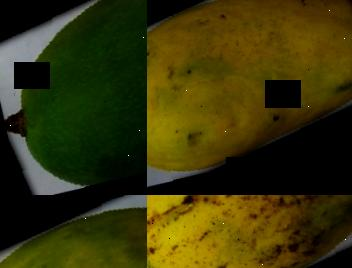PartiallyRipe: (0, 195, 147, 268)
Ripe: (147, 0, 352, 195), (147, 195, 352, 268)
Unripe: (0, 0, 147, 195)
